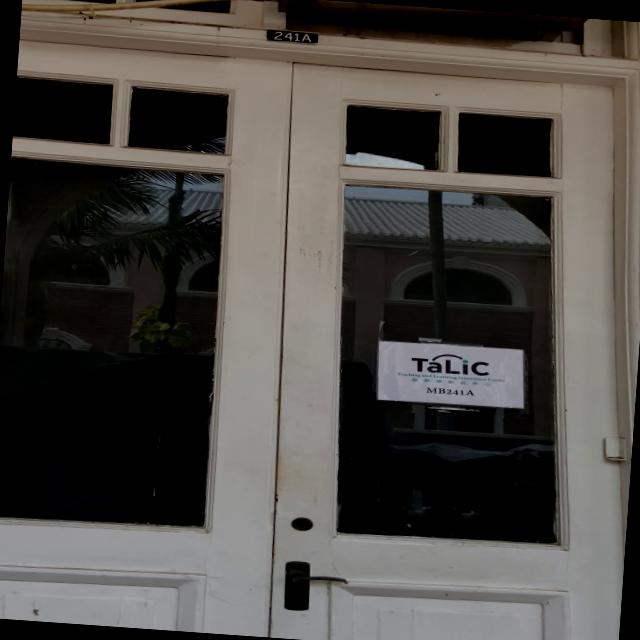room241a: (262, 27, 320, 48)
